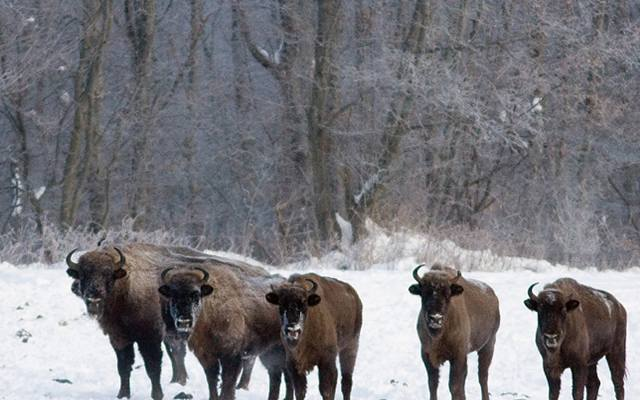zubr: (520, 236, 631, 400), (266, 237, 368, 400), (398, 247, 504, 400)
